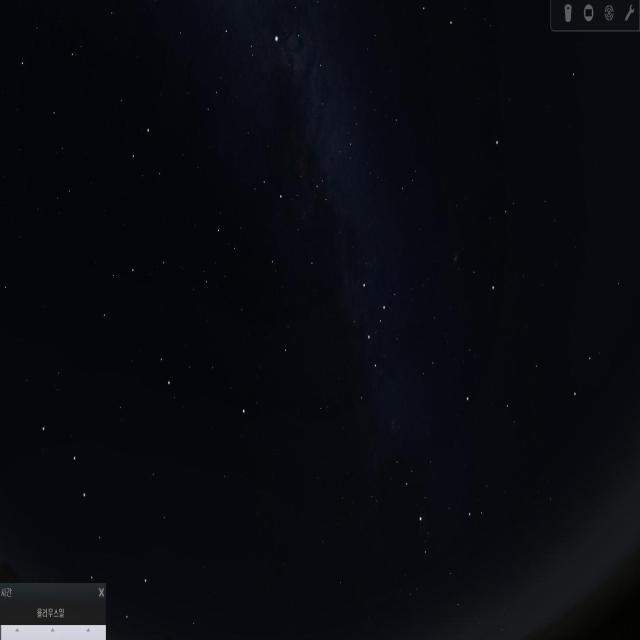cassiopeia: (343, 268, 395, 400)
ursa_major: (38, 427, 152, 626)
